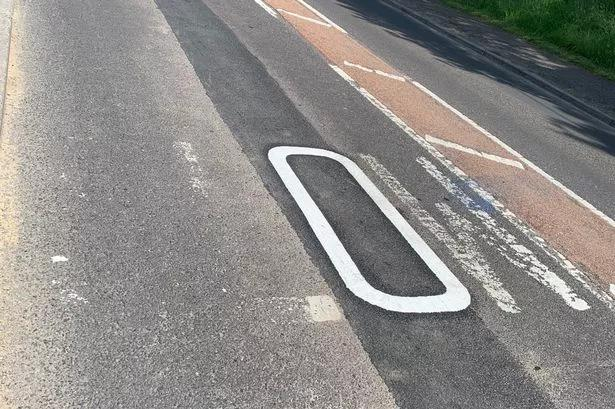faded_road_lines: (18, 130, 615, 366), (250, 1, 497, 133)
